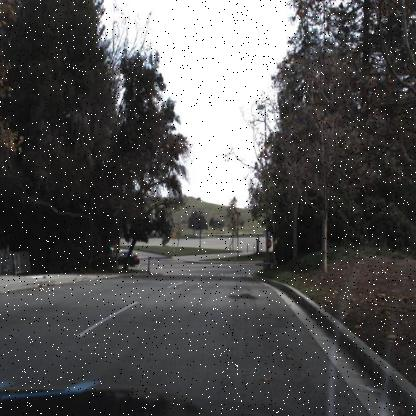car: (112, 248, 141, 270)
